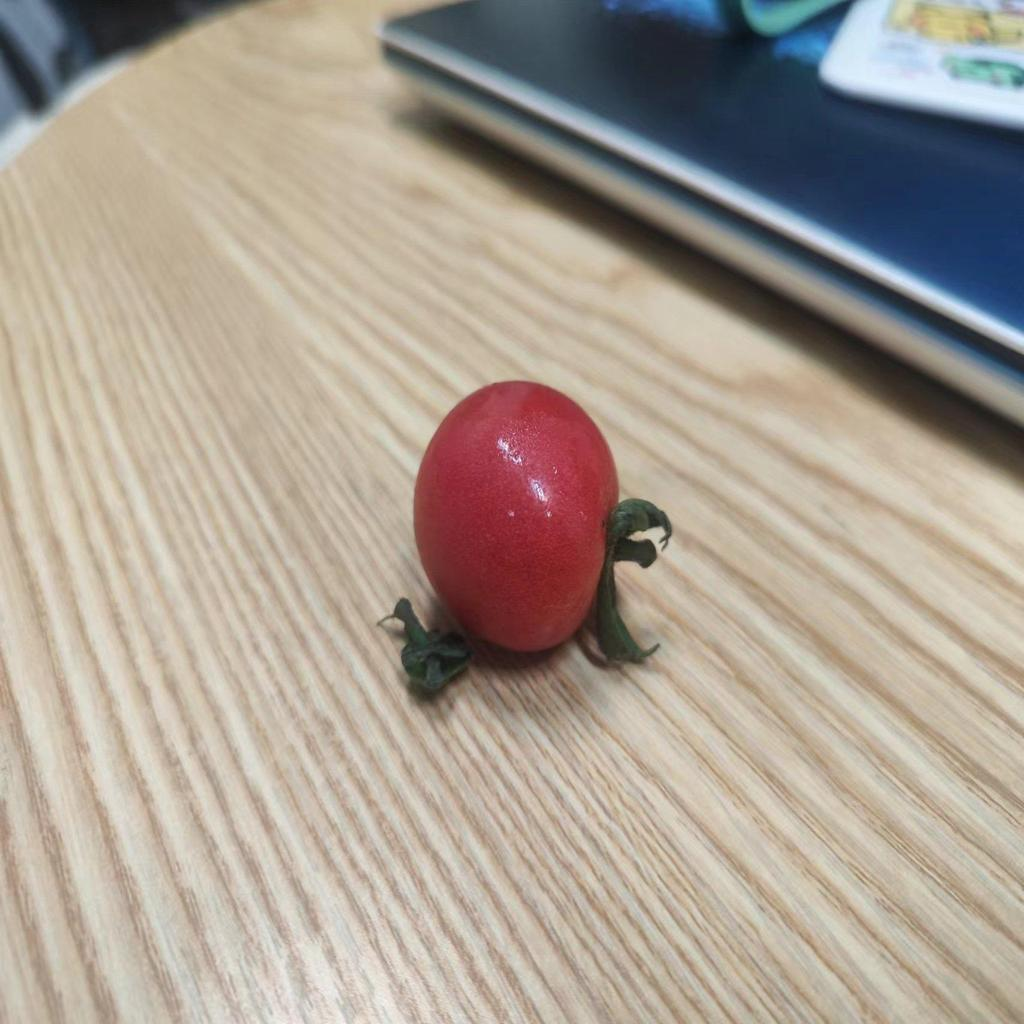tomato: (401, 379, 643, 664)
